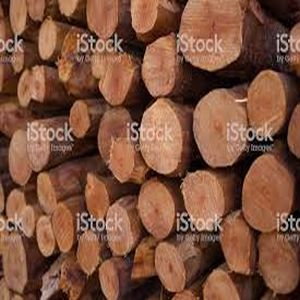log: (178, 1, 247, 74), (192, 87, 249, 170), (239, 150, 293, 231), (136, 100, 185, 178), (94, 106, 141, 183), (250, 227, 299, 296), (179, 168, 227, 233), (135, 178, 181, 242), (139, 34, 181, 102), (247, 70, 286, 139), (216, 208, 253, 276), (147, 239, 191, 295), (92, 58, 139, 103), (103, 200, 137, 257), (2, 231, 31, 294), (12, 64, 52, 108), (6, 126, 33, 190), (21, 123, 53, 174), (81, 170, 110, 225), (197, 265, 240, 300), (72, 227, 103, 275), (86, 1, 125, 37), (32, 171, 62, 217), (50, 206, 78, 250), (96, 255, 122, 300), (131, 1, 162, 37), (65, 99, 91, 140), (35, 19, 58, 61), (6, 188, 27, 226), (18, 204, 36, 242), (7, 1, 28, 33), (25, 1, 49, 22)
